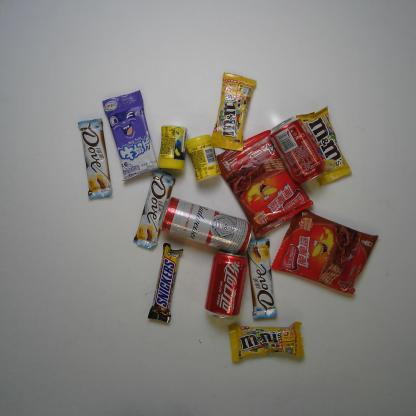Alcohol: (158, 198, 254, 255)
Candy: (101, 89, 160, 183)
Chocolate: (296, 106, 352, 186), (208, 71, 255, 152), (132, 169, 176, 252), (227, 321, 305, 364), (75, 117, 113, 202), (146, 242, 184, 324), (244, 237, 278, 321)
Dessert: (208, 128, 314, 240), (269, 206, 379, 296)
Drink: (269, 115, 326, 183), (203, 250, 247, 321)
Gum: (183, 134, 221, 182), (156, 123, 187, 172)
